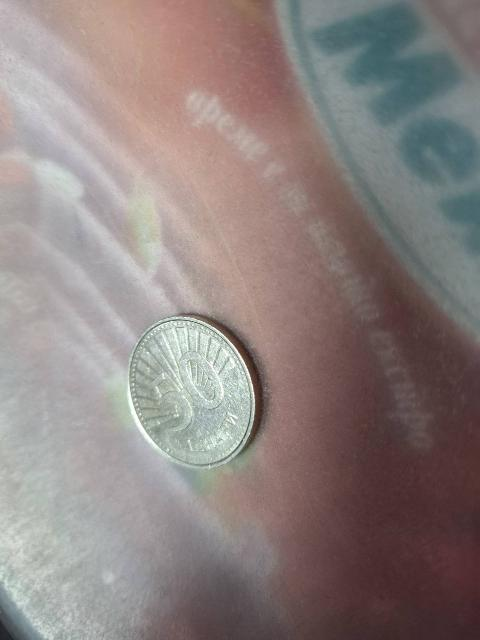50_coin: (127, 322, 253, 465)
